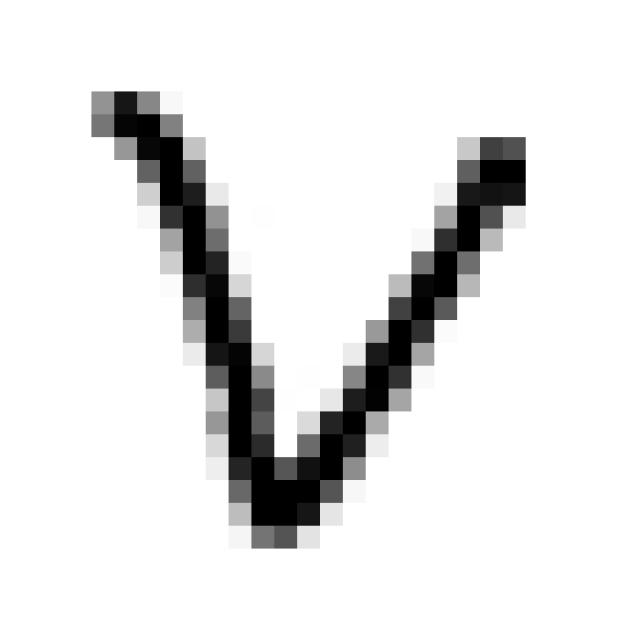7 -seven-: (82, 66, 544, 560)
